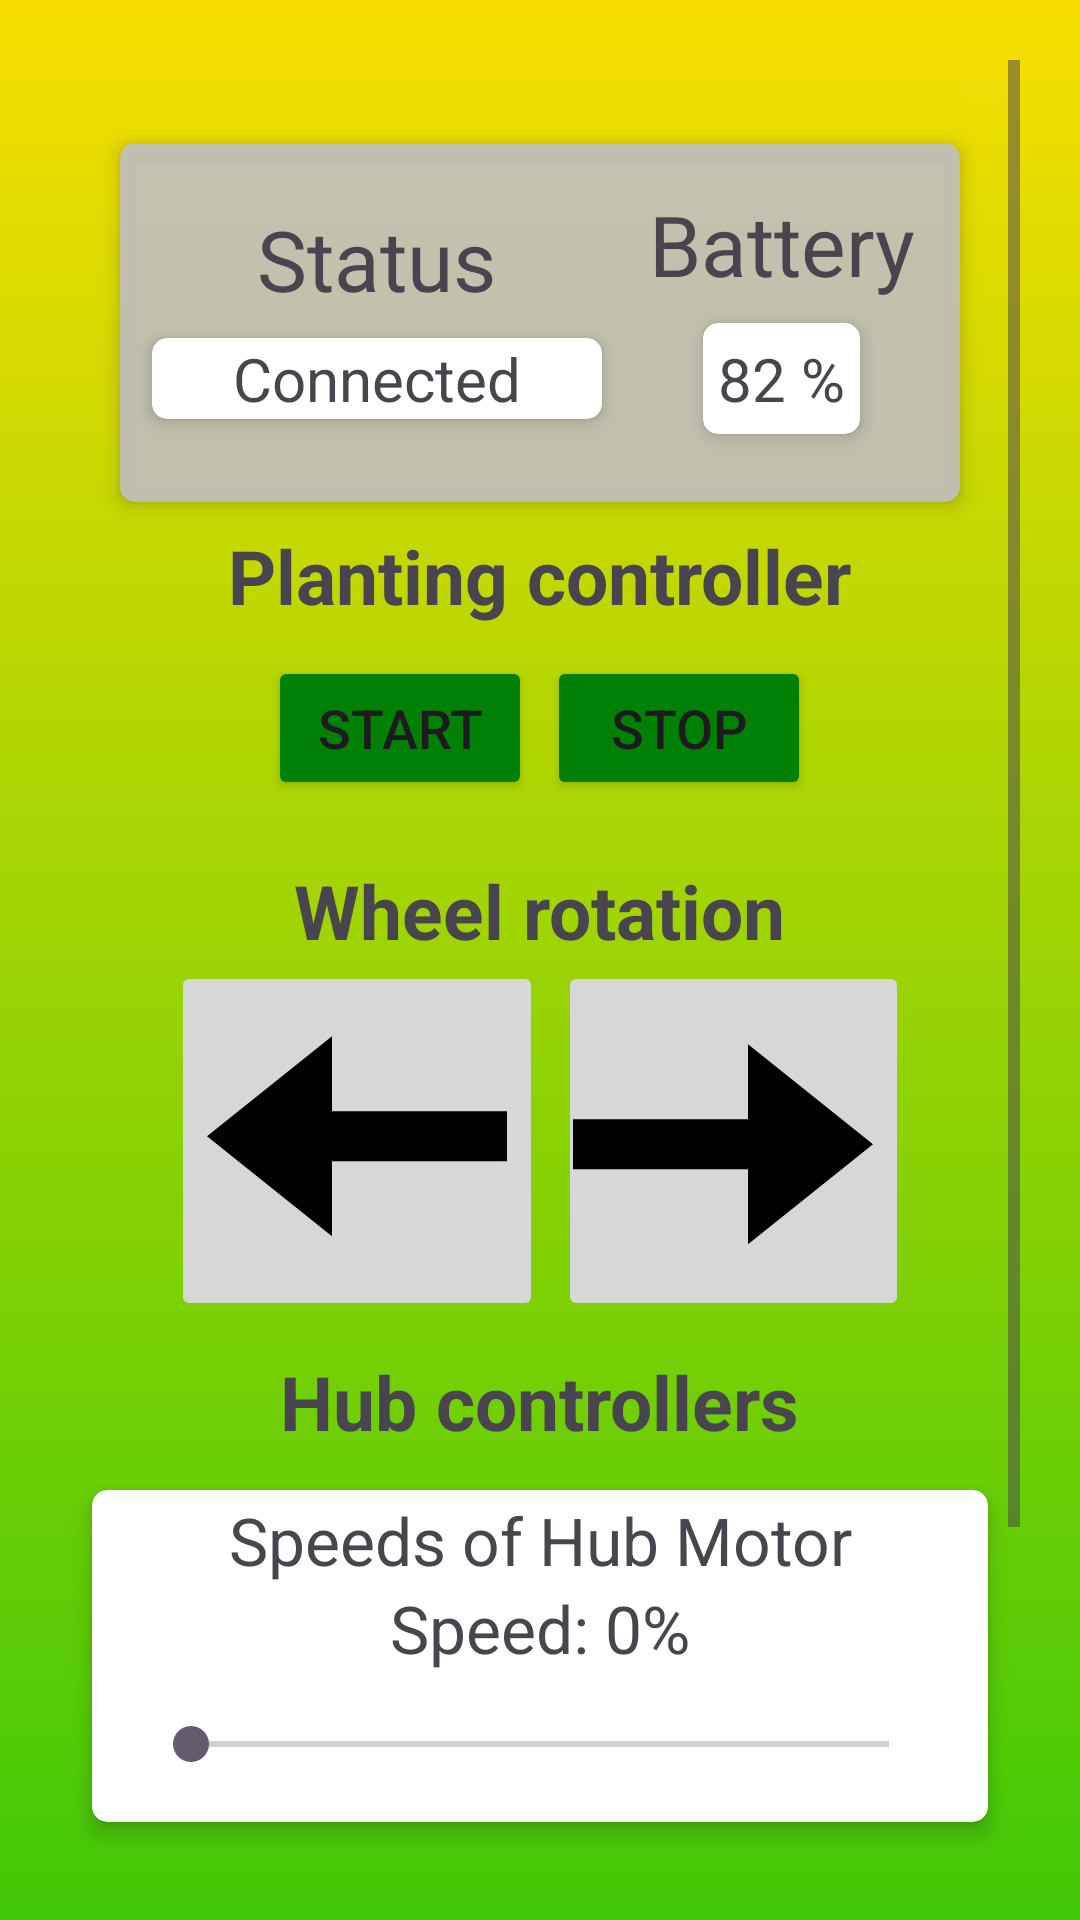

Icons on this 1080x1920 Android screen, each with the point to tap as [x,y]:
right arrow: [733,1141]
